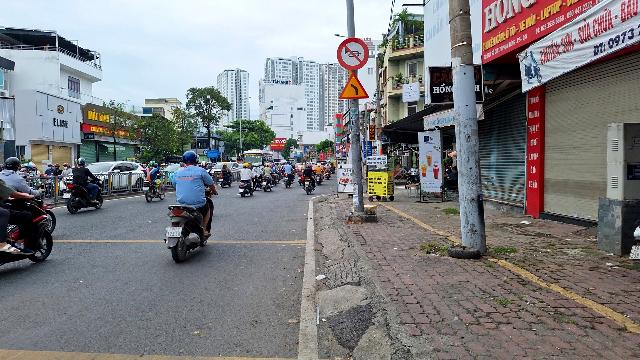cam-bop-coi: (336, 38, 370, 71)
cho-ngoat-nguy-hiem-ben-trai: (338, 72, 370, 99)
